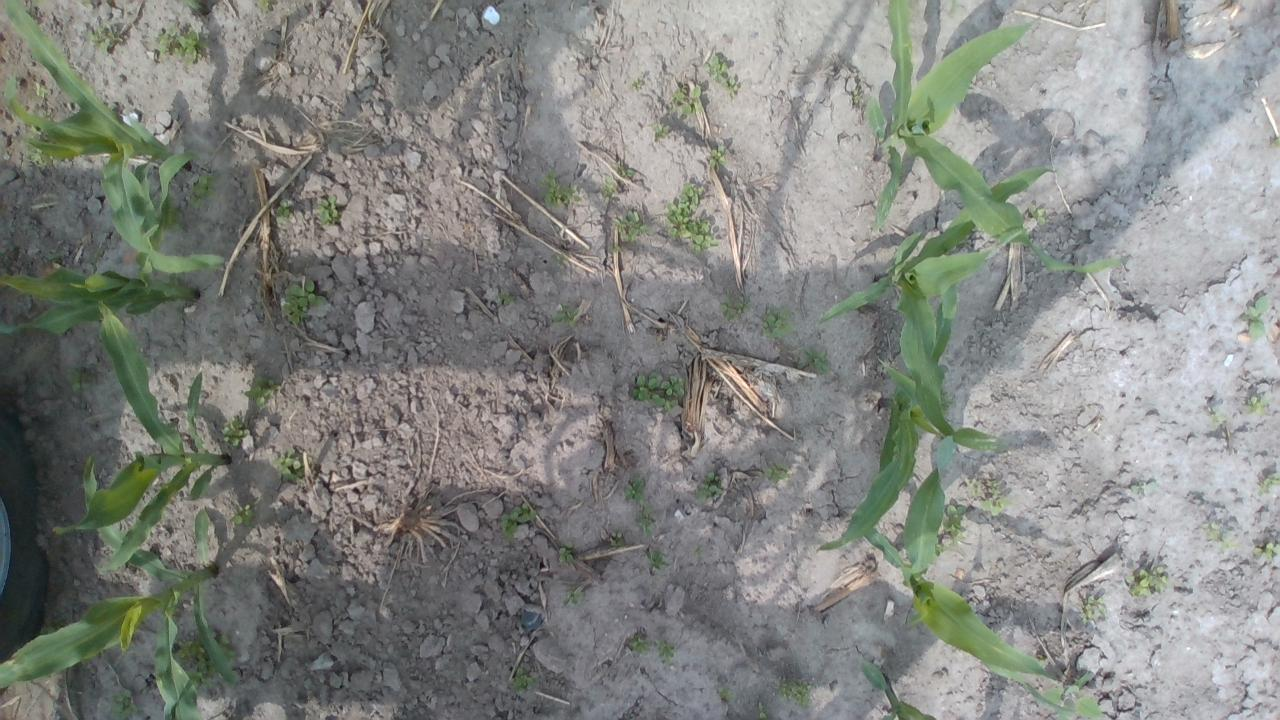Maize: (862, 0, 1118, 270), (820, 168, 1060, 455), (0, 447, 243, 720), (857, 436, 1078, 716), (0, 0, 223, 276), (47, 303, 231, 576), (814, 287, 960, 550), (0, 148, 199, 338), (860, 658, 941, 720)
Weeds: (666, 182, 719, 253), (630, 371, 685, 412), (153, 26, 206, 66), (176, 638, 218, 688), (1042, 686, 1103, 720), (283, 280, 325, 326), (968, 476, 1011, 516), (537, 170, 582, 208), (1124, 564, 1170, 598), (704, 54, 738, 99), (499, 502, 537, 542), (1240, 295, 1272, 340), (759, 308, 797, 342), (1201, 520, 1239, 552), (242, 374, 276, 408), (188, 174, 220, 209), (272, 448, 304, 483), (942, 503, 968, 546), (614, 212, 651, 242), (670, 86, 704, 118), (791, 346, 830, 373), (778, 678, 812, 708), (86, 26, 122, 52), (220, 414, 248, 447), (66, 366, 98, 394), (108, 689, 136, 720), (720, 294, 750, 322), (634, 502, 658, 536), (212, 630, 237, 662), (694, 471, 721, 499), (551, 300, 579, 327), (509, 667, 537, 694), (1082, 596, 1108, 624), (765, 462, 795, 486), (24, 142, 52, 166), (317, 195, 339, 224), (1245, 394, 1272, 417), (644, 549, 669, 572), (232, 504, 255, 529), (655, 638, 675, 665), (1208, 406, 1230, 430), (1258, 471, 1280, 495), (1251, 542, 1280, 559), (624, 476, 644, 500), (274, 200, 292, 226), (1027, 204, 1047, 226), (628, 634, 650, 654), (562, 589, 585, 608), (1130, 481, 1160, 495), (22, 124, 43, 142), (709, 145, 726, 167), (558, 542, 574, 564), (650, 122, 670, 139), (601, 176, 616, 198), (614, 162, 636, 177), (940, 388, 954, 411), (934, 537, 950, 557), (92, 242, 106, 262), (34, 82, 50, 98), (500, 290, 516, 306), (718, 684, 732, 702), (756, 701, 768, 720), (256, 0, 271, 14), (610, 531, 624, 546), (628, 76, 642, 90), (946, 0, 959, 15), (693, 545, 705, 558), (1269, 136, 1280, 148), (852, 89, 860, 104), (555, 253, 563, 267), (1036, 656, 1046, 666)
